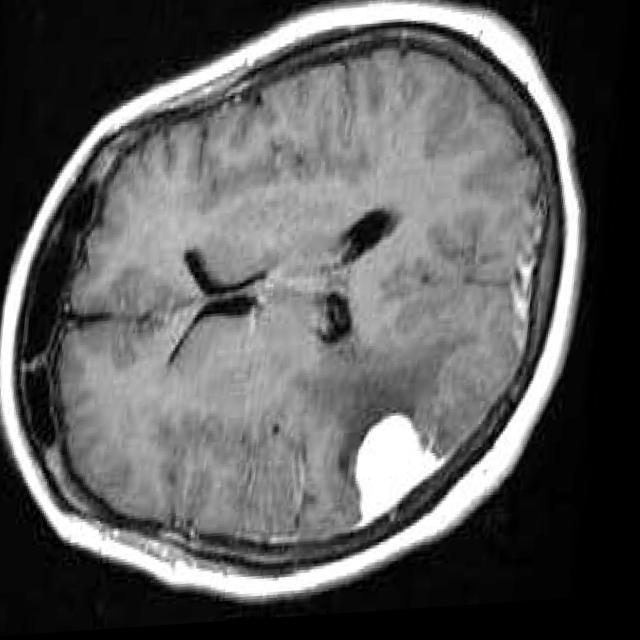Tumor: (364, 422, 451, 532)
